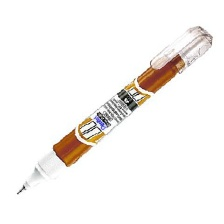correction_fluid: (13, 22, 214, 197)
